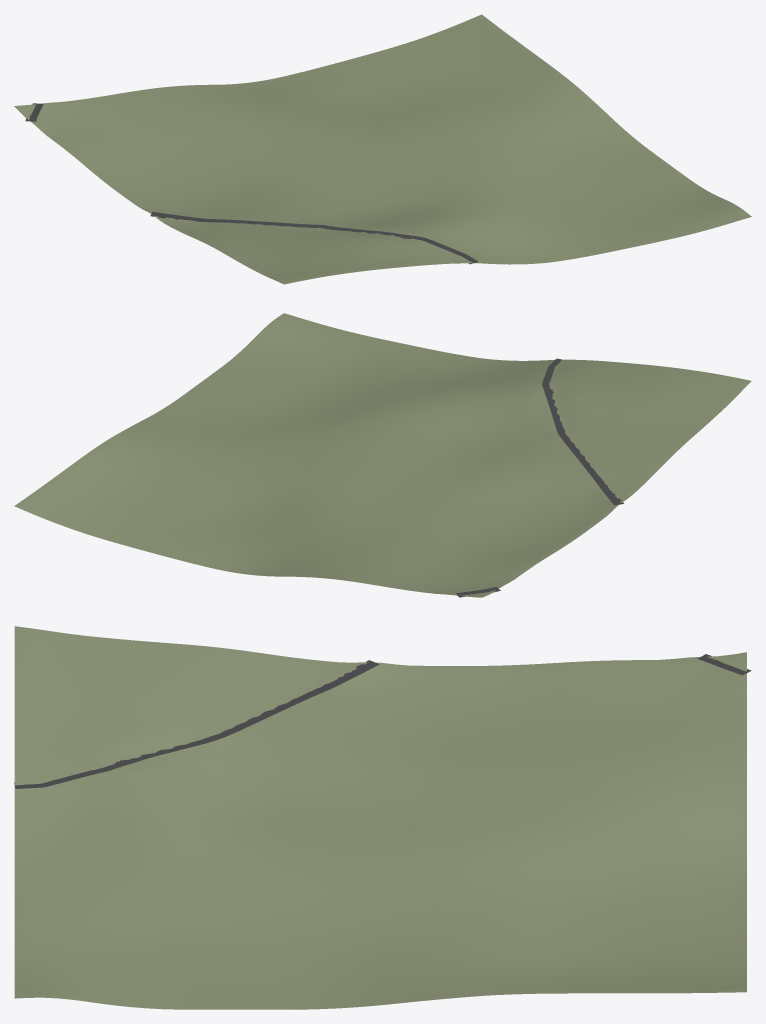
The picture shows the model from 3 angles, top to bottom: view 1: azimuth 30°, elevation 25°; view 2: azimuth 150°, elevation 25°; view 3: azimuth 270°, elevation 25°; orthographic projection. The views are drawn at different scales.
Parts seen in each view (by area): view 1: ground, road; view 2: ground, road; view 3: ground, road.
Part boxes in pixels (bbox=[...]): ground: bbox=[14, 14, 751, 284]; road: bbox=[25, 103, 478, 264]; ground: bbox=[14, 313, 751, 597]; road: bbox=[456, 358, 623, 597]; ground: bbox=[14, 626, 746, 1009]; road: bbox=[14, 654, 751, 788].
Size of the model in its own units: 252 by 28.35 by 252.
